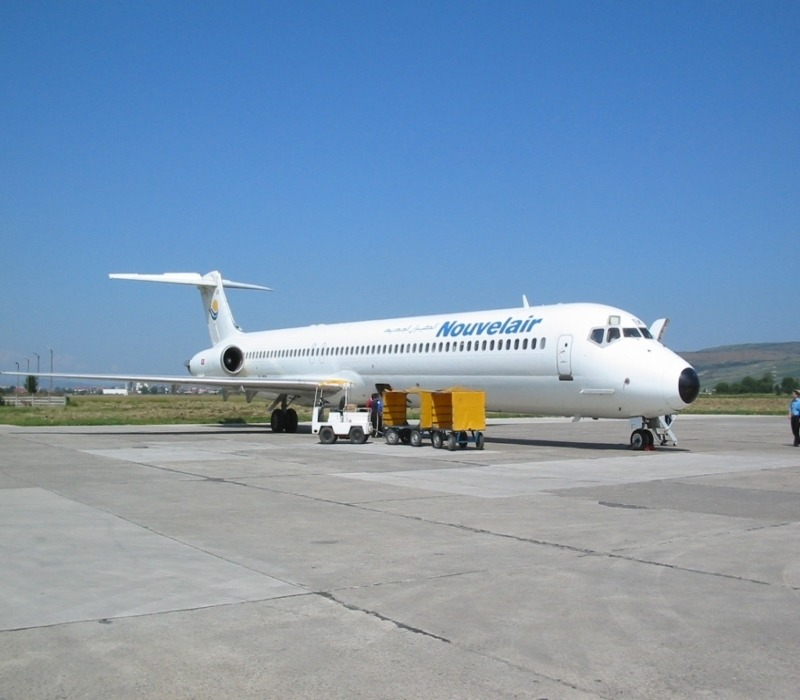Aeronef_commercial: (1, 253, 727, 466)
